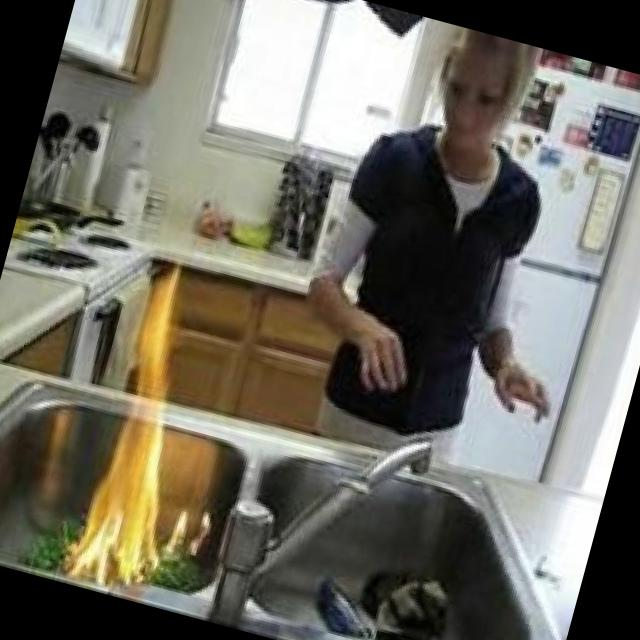Fire: (61, 268, 228, 598), (162, 512, 219, 569)
